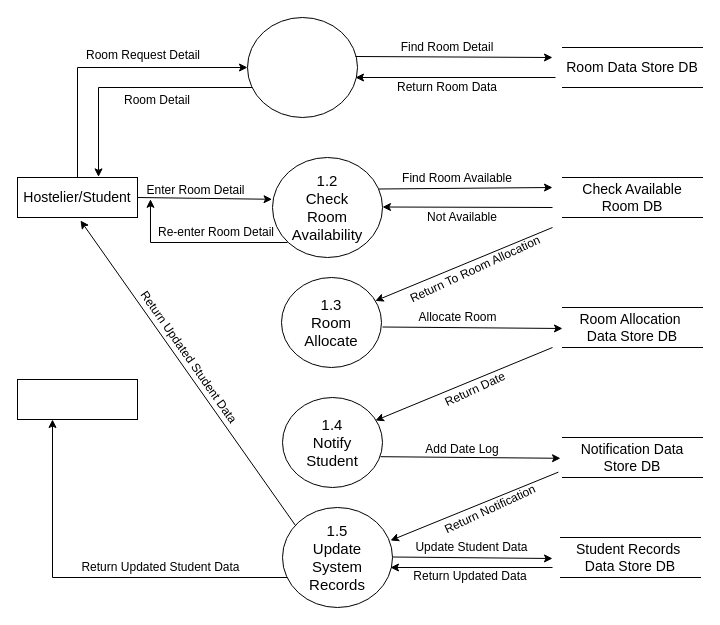
This 720x625 diagram has some shape labels left out. Here are the shapes that lost their labels. From the top down, the centre of each, then its label:
At (x=302, y=67): "1.1 Request Room Detail".
At (x=77, y=399): "Admin".
